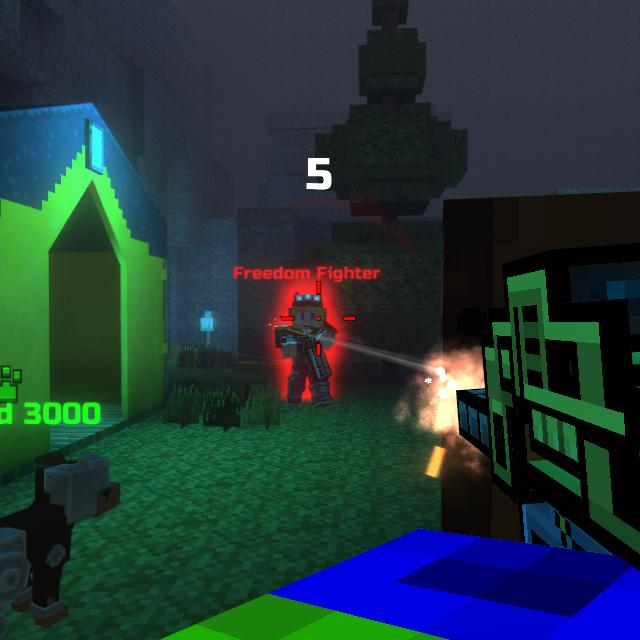Enemy: (272, 293, 336, 405)
